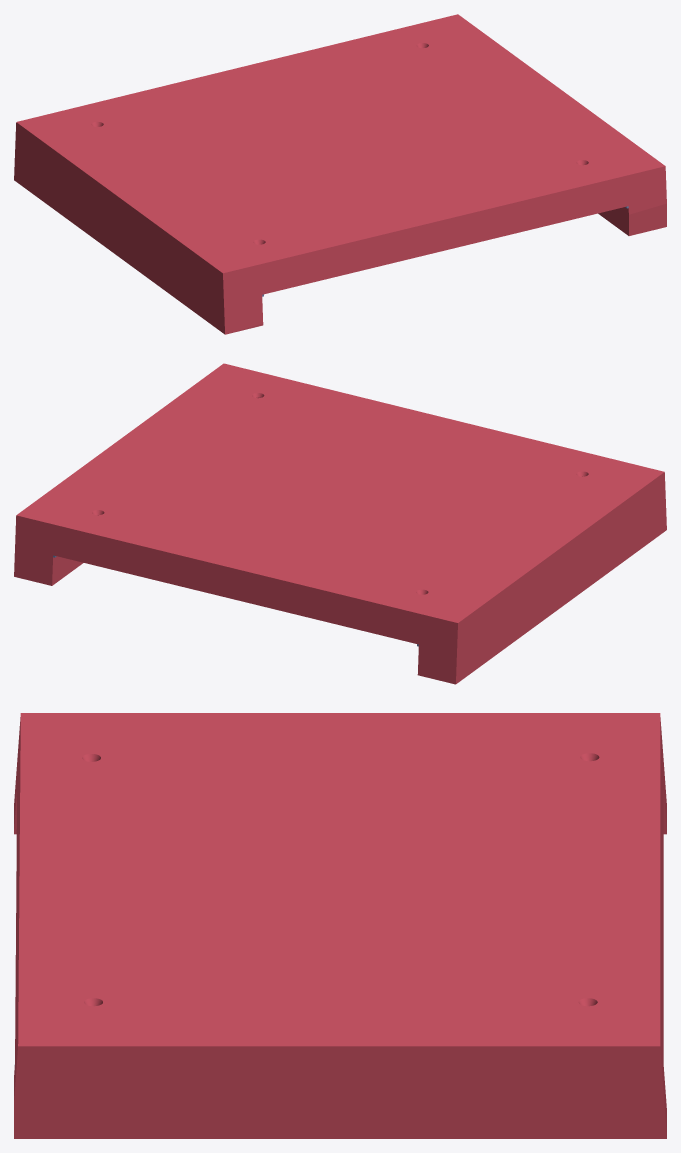
File: Matrix Case.glb
3 views of the same model, one above another, from view 1: azimuth 30°, elevation 25°; view 2: azimuth 150°, elevation 25°; view 3: azimuth 270°, elevation 25° (orthographic). The views are drawn at different scales.
Parts seen in each view (by area): view 1: Mesh_Mesh_head_geo.001_lambert2SG.001; view 2: Mesh_Mesh_head_geo.001_lambert2SG.001; view 3: Mesh_Mesh_head_geo.001_lambert2SG.001.
Part boxes in pixels (left/top/right/bottom): Mesh_Mesh_head_geo.001_lambert2SG.001: left=14, top=14, right=666, bottom=334; Mesh_Mesh_head_geo.001_lambert2SG.001: left=14, top=363, right=666, bottom=684; Mesh_Mesh_head_geo.001_lambert2SG.001: left=14, top=713, right=666, bottom=1138.
Bounding box in the file's own units: 0.232 × 0.03 × 0.192.
